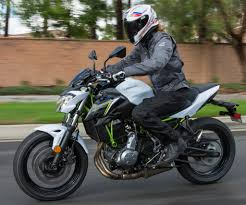moto: (11, 66, 239, 200)
person: (122, 2, 194, 108)
